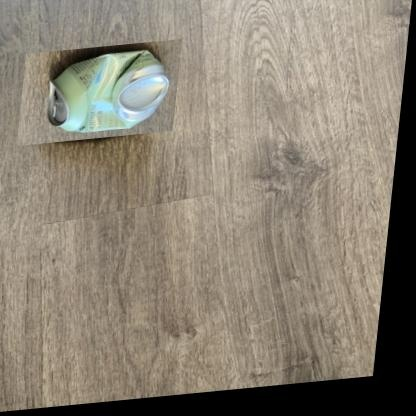trash: (48, 50, 168, 131)
